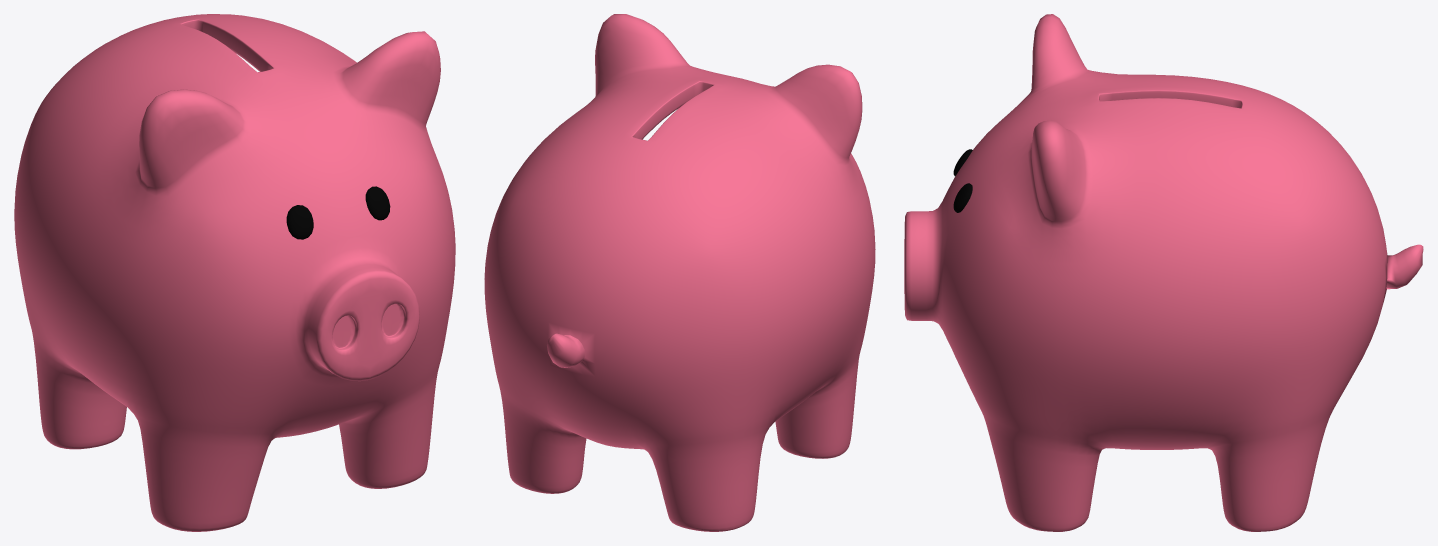
Rendered from toy_piggy.glb.
3 renders of one model, left to right at view 1: azimuth 30°, elevation 25°; view 2: azimuth 150°, elevation 25°; view 3: azimuth 270°, elevation 25°, orthographic. The views are drawn at different scales.
Parts seen in each view (by area): view 1: toy_piggy; view 2: toy_piggy; view 3: toy_piggy.
Part boxes in pixels (box(x1,y1,x2,y2)): toy_piggy: box(14, 14, 455, 531); toy_piggy: box(484, 14, 875, 531); toy_piggy: box(904, 14, 1423, 531).
Size of the model in its own units: 15.47 by 18 by 21.06.
